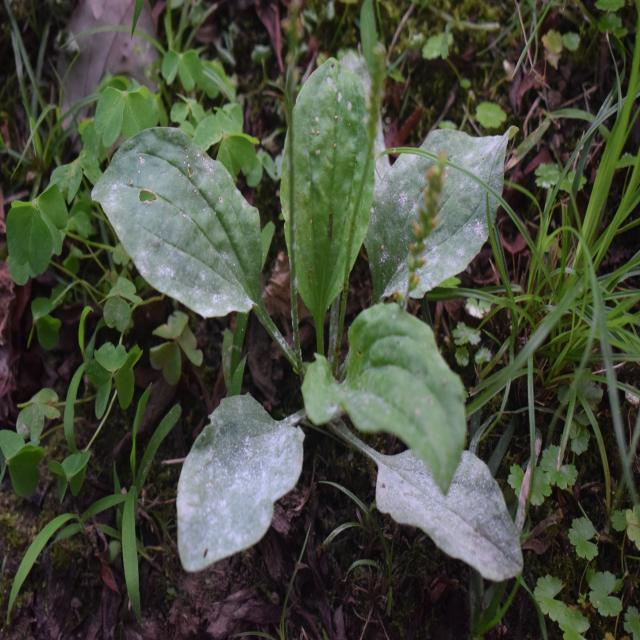plantain: (108, 64, 486, 489)
